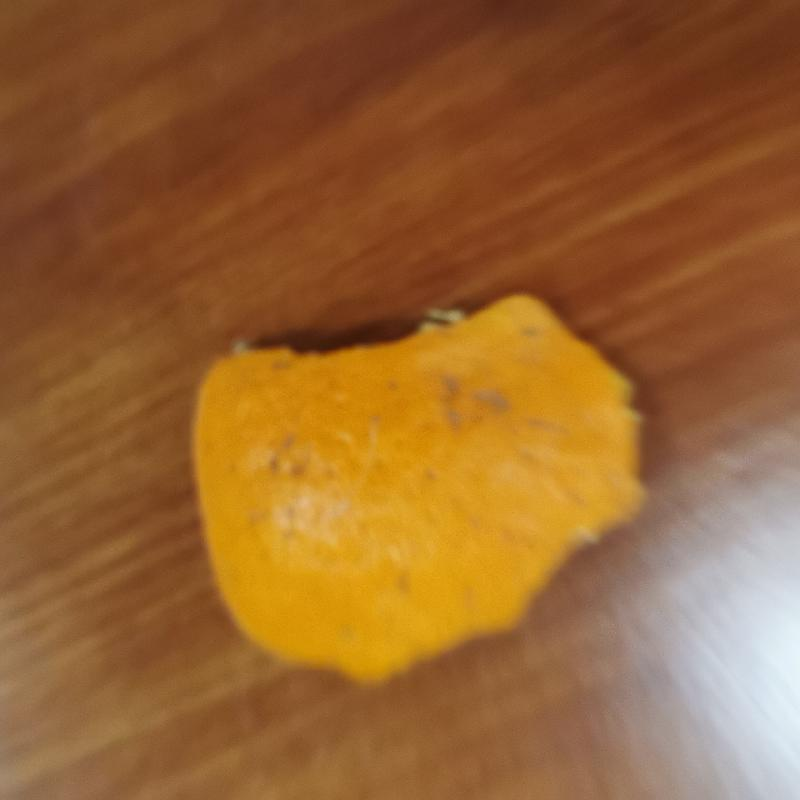orange: (170, 299, 649, 681)
